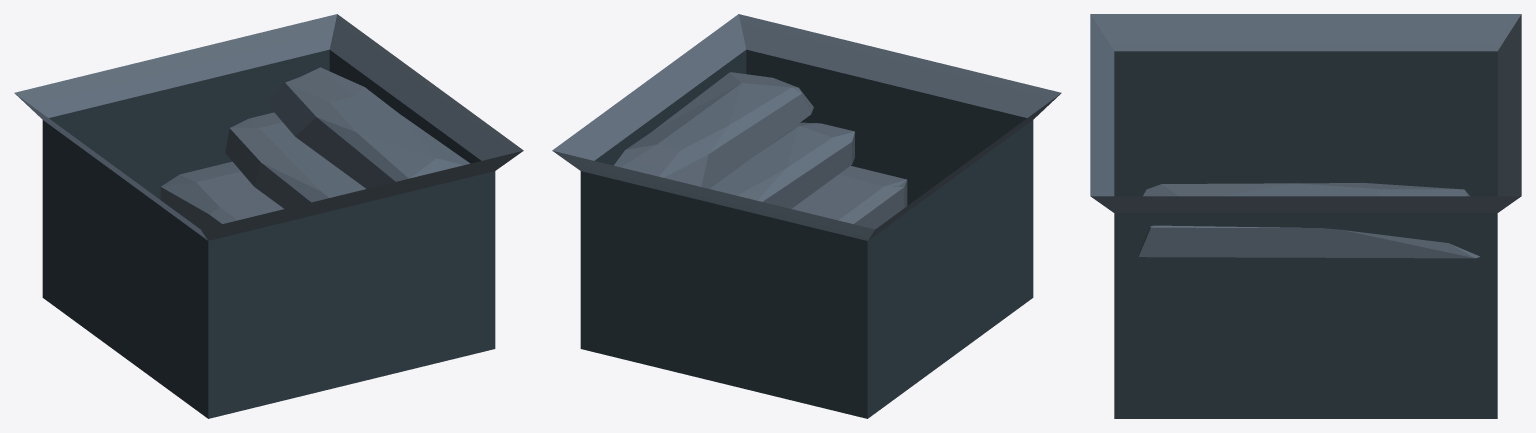
File: Stairs_down_A.fbx
3 views of the same model, side by side, from view 1: azimuth 30°, elevation 25°; view 2: azimuth 150°, elevation 25°; view 3: azimuth 270°, elevation 25° (orthographic). The views are drawn at different scales.
Parts seen in each view (by area): view 1: Stairs_down_A; view 2: Stairs_down_A; view 3: Stairs_down_A.
Part boxes in pixels (bbox=[...]): Stairs_down_A: bbox=[14, 14, 523, 418]; Stairs_down_A: bbox=[552, 14, 1061, 418]; Stairs_down_A: bbox=[1090, 14, 1521, 418].
Bounding box in the file's own units: 100 × 59.57 × 100.
